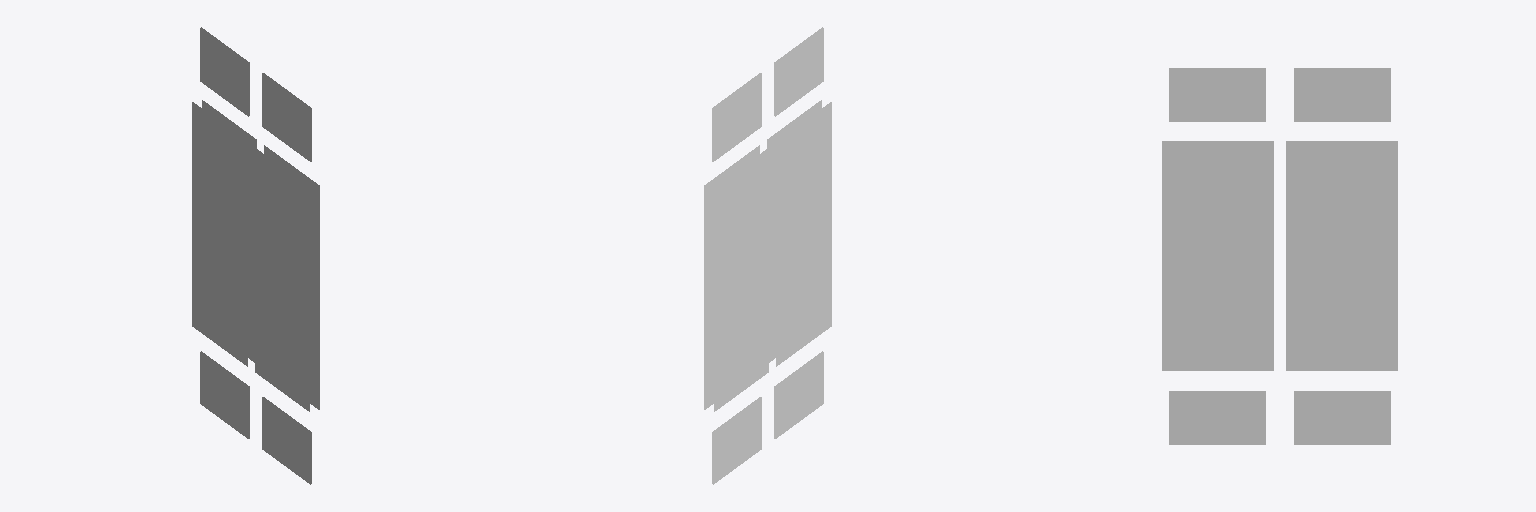
The model's file is Window.obj.
3 views of the same model, side by side, from view 1: azimuth 30°, elevation 25°; view 2: azimuth 150°, elevation 25°; view 3: azimuth 270°, elevation 25° (orthographic).
Parts seen in each view (by area): view 1: Window; view 2: Window; view 3: Window.
Part boxes in pixels (bbox=[...]): Window: bbox=[192, 27, 319, 484]; Window: bbox=[704, 27, 831, 484]; Window: bbox=[1162, 68, 1397, 444].
Bounding box in the file's own units: 0.045 × 1.74 × 0.9867.